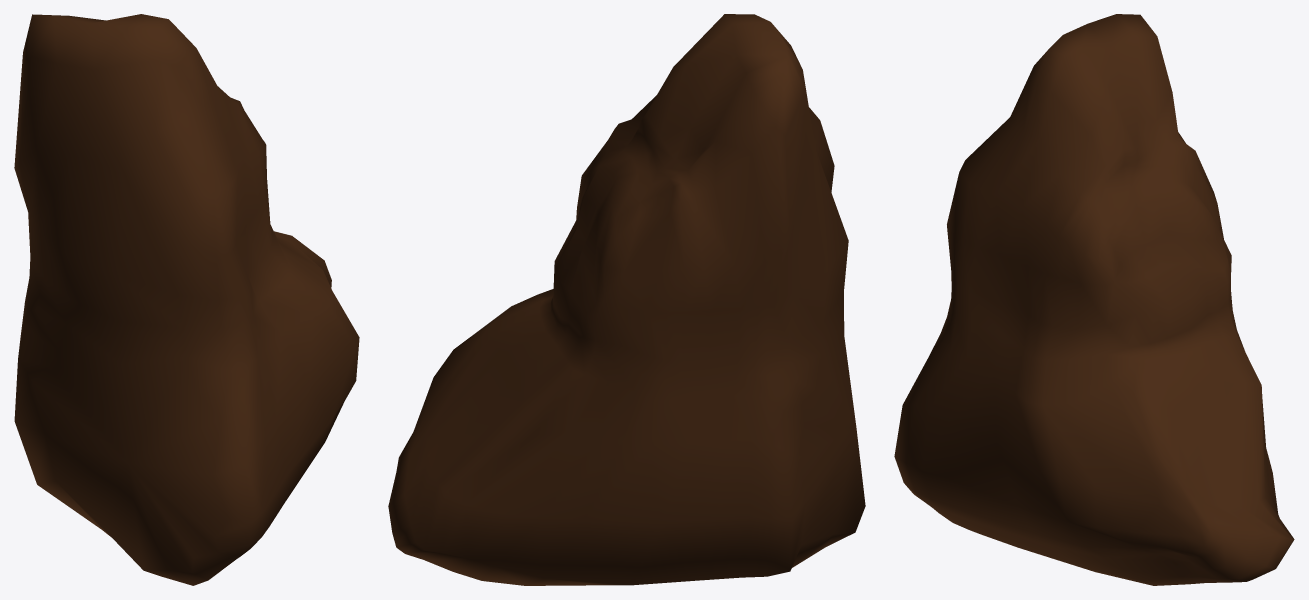
The model's file is rock_2.fbx.
The picture shows the model from 3 angles, left to right: view 1: azimuth 30°, elevation 25°; view 2: azimuth 150°, elevation 25°; view 3: azimuth 270°, elevation 25°; orthographic projection. The views are drawn at different scales.
Parts seen in each view (by area): view 1: Cube.004; view 2: Cube.004; view 3: Cube.004.
Part boxes in pixels (x1,y1,x2,y2): Cube.004: (14, 14, 359, 585); Cube.004: (388, 14, 865, 585); Cube.004: (894, 14, 1294, 585).
Bounding box in the file's own units: 48.91 × 72.84 × 54.73.
